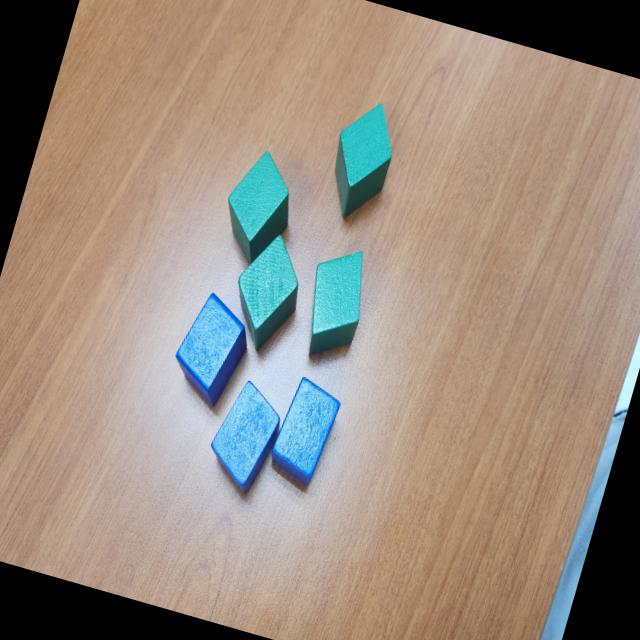blue: (163, 287, 260, 414), (200, 374, 290, 500), (264, 374, 345, 489)
green: (219, 226, 314, 358), (211, 142, 306, 273), (318, 95, 406, 225), (291, 240, 378, 366)
